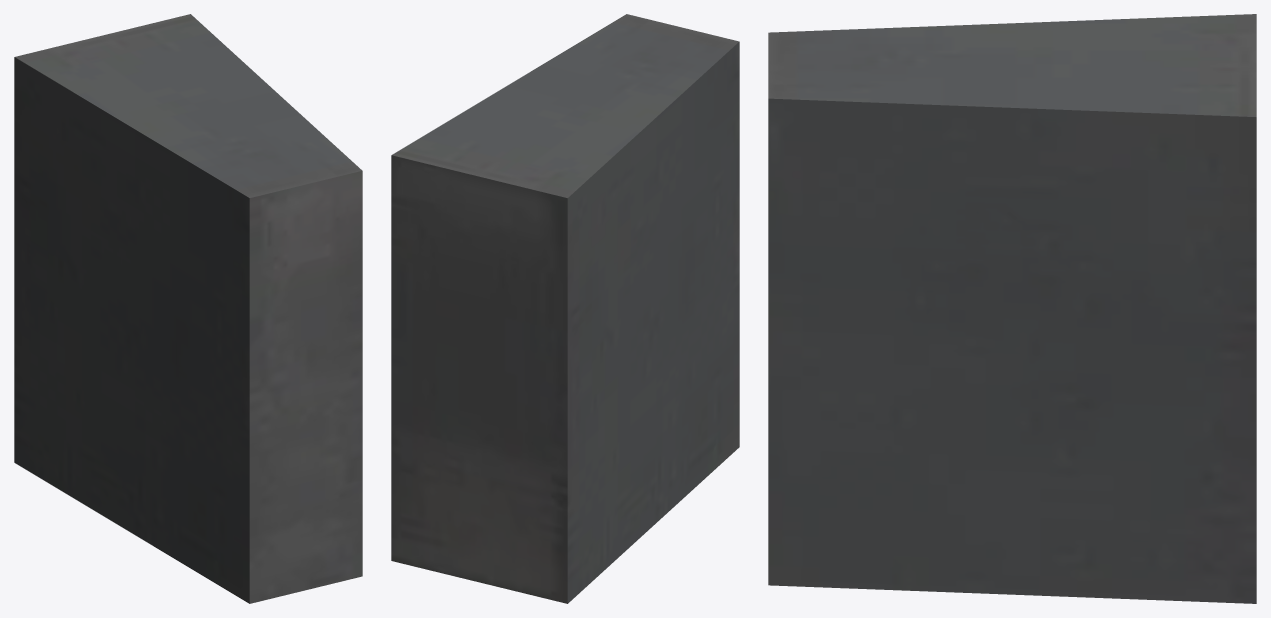
The model's file is payload_bracket__web_rib.glb.
The picture shows the model from 3 angles, left to right: view 1: azimuth 30°, elevation 25°; view 2: azimuth 150°, elevation 25°; view 3: azimuth 270°, elevation 25°; orthographic projection. The views are drawn at different scales.
Visible parts, largest first — view 1: world; view 2: world; view 3: world.
Part boxes in pixels (x1=…): world: x1=14, y1=14, x2=362, y2=603; world: x1=391, y1=14, x2=739, y2=603; world: x1=768, y1=14, x2=1256, y2=603.
Size of the model in its own units: 0.01 by 0.022 by 0.02.
1 material, 1 textured.
